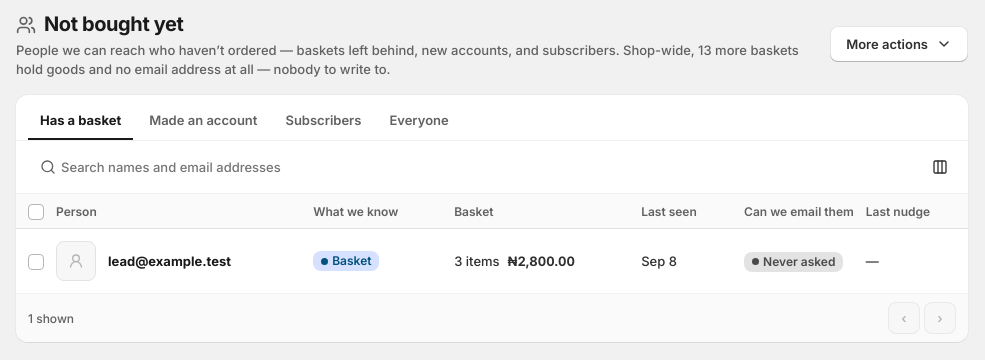
the not-bought-yet list › keeps that count the same on a tab that shows no baskets at all
This screenshot has width=985, height=360.
Expected: the text "lead@example.test" is shown, [108,252,231,271]
Click the tab "Subscribers" at (323, 121), box [273,103,373,140]
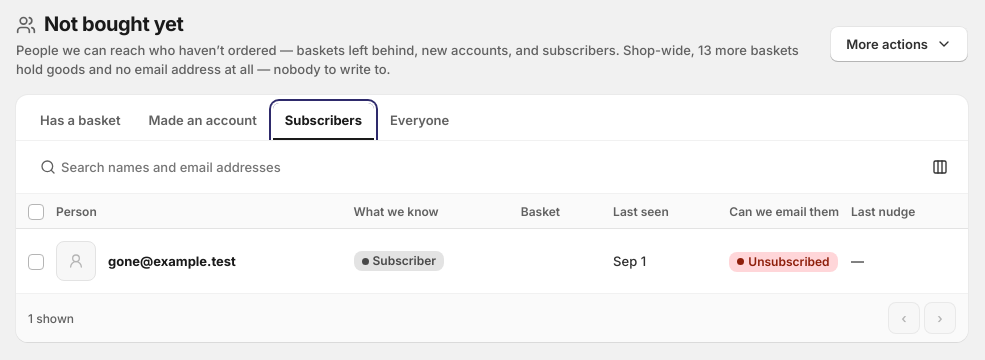
Expected: the text "13 more baskets" shows "Shop-wide", [16,42,799,77]
Expected: the text "gone@example.test" is shown, [108,252,236,271]
Expected: the text "gone@example.test" no longer shows "item"
